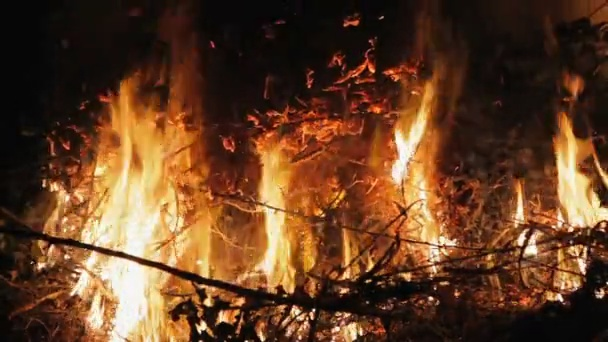fire: (46, 89, 194, 338), (390, 79, 446, 276), (256, 130, 297, 291), (552, 107, 601, 223), (512, 180, 540, 258)
